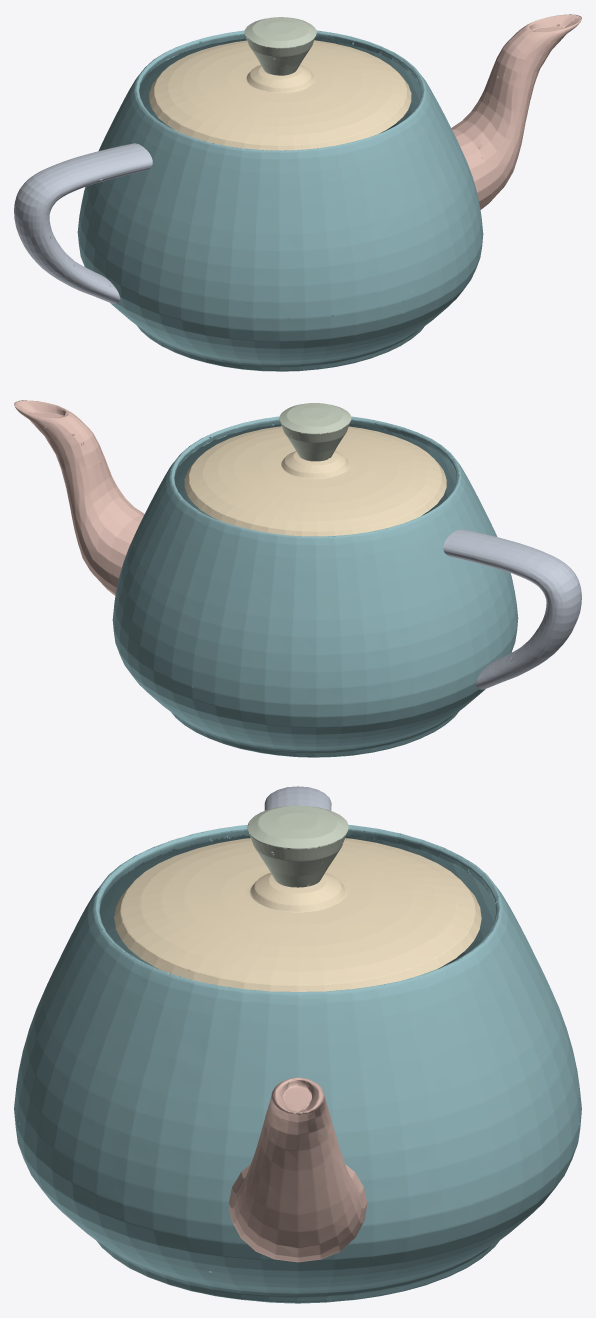
Rendered from teapot.glb.
The picture shows the model from 3 angles, top to bottom: view 1: azimuth 30°, elevation 25°; view 2: azimuth 150°, elevation 25°; view 3: azimuth 270°, elevation 25°; orthographic projection. The views are drawn at different scales.
Parts seen in each view (by area): view 1: Part 01, Part 02, Part 03, Part 04, Part 05; view 2: Part 01, Part 02, Part 03, Part 04, Part 05; view 3: Part 01, Part 02, Part 03, Part 05, Part 04.
Part boxes in pixels (x1=…): Part 01: x1=77, y1=30, x2=483, y2=371; Part 02: x1=149, y1=40, x2=411, y2=150; Part 03: x1=451, y1=14, x2=581, y2=209; Part 04: x1=14, y1=143, x2=152, y2=303; Part 05: x1=244, y1=17, x2=316, y2=75; Part 01: x1=112, y1=416, x2=518, y2=757; Part 02: x1=184, y1=426, x2=446, y2=536; Part 03: x1=14, y1=400, x2=144, y2=595; Part 04: x1=443, y1=529, x2=581, y2=689; Part 05: x1=279, y1=403, x2=351, y2=461; Part 01: x1=14, y1=824, x2=581, y2=1303; Part 02: x1=114, y1=838, x2=481, y2=991; Part 03: x1=228, y1=1077, x2=367, y2=1262; Part 05: x1=247, y1=805, x2=348, y2=887; Part 04: x1=264, y1=786, x2=331, y2=810.
Bounding box in the file's own units: 0.9992 × 0.4925 × 0.6218.
